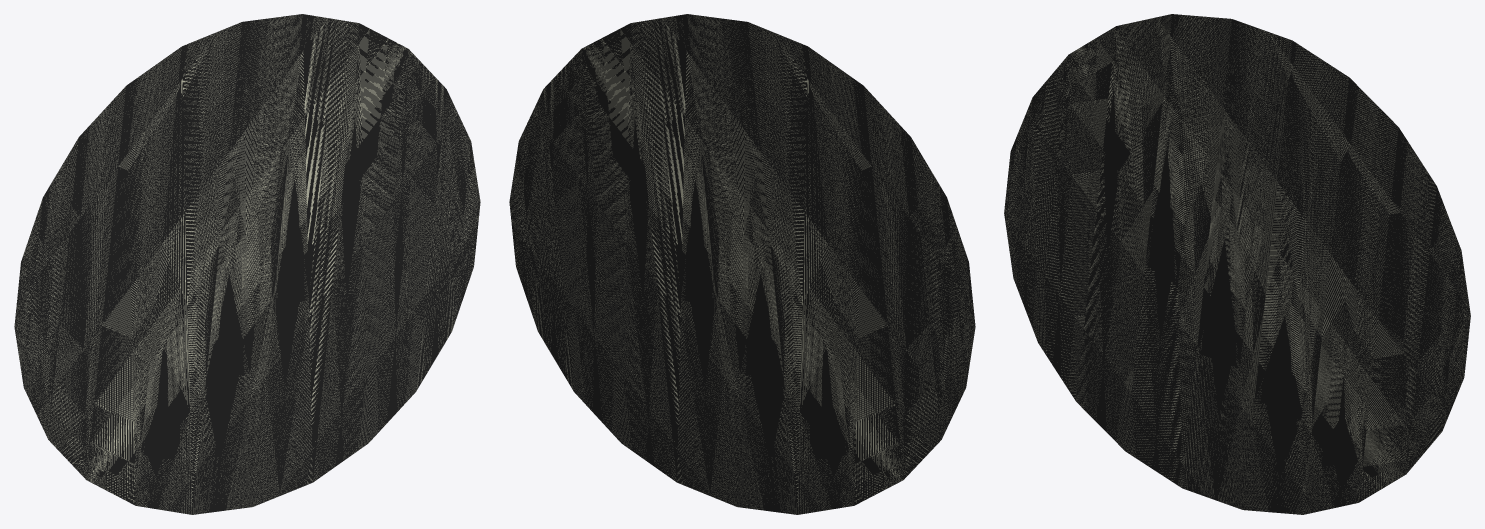
The model's file is original-128.obj.
3 views of the same model, side by side, from view 1: azimuth 30°, elevation 25°; view 2: azimuth 150°, elevation 25°; view 3: azimuth 330°, elevation 25° (orthographic).
Visible parts, largest first — view 1: Group20/mesh21/mesh21-geometry/material_2/component_1#mesh21-geo; view 2: Group20/mesh21/mesh21-geometry/material_2/component_1#mesh21-geo; view 3: Group20/mesh21/mesh21-geometry/material_2/component_1#mesh21-geo.
Part boxes in pixels (x1=…): Group20/mesh21/mesh21-geometry/material_2/component_1#mesh21-geo: x1=14, y1=14, x2=480, y2=514; Group20/mesh21/mesh21-geometry/material_2/component_1#mesh21-geo: x1=509, y1=14, x2=975, y2=514; Group20/mesh21/mesh21-geometry/material_2/component_1#mesh21-geo: x1=1004, y1=14, x2=1470, y2=514.
Size of the model in its own units: 0.025 by 0.025 by 0.
